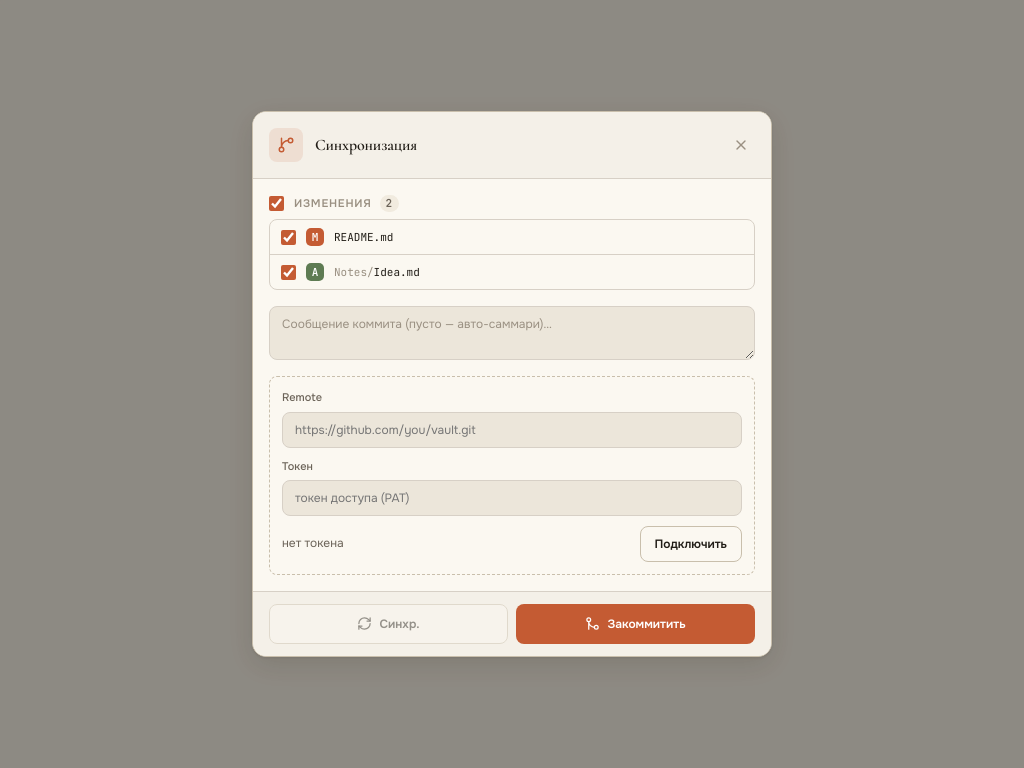
Test case: SyncPanel commit — ошибка не глотается (audit B13) › сбой git.commit показывает error-исход, а не тихо проглатывается
// Кнопка коммита доступна после загрузки статуса (мок отдаёт грязные файлы).
Click the button "Закоммитить": [636, 624] box [516,604,755,644]
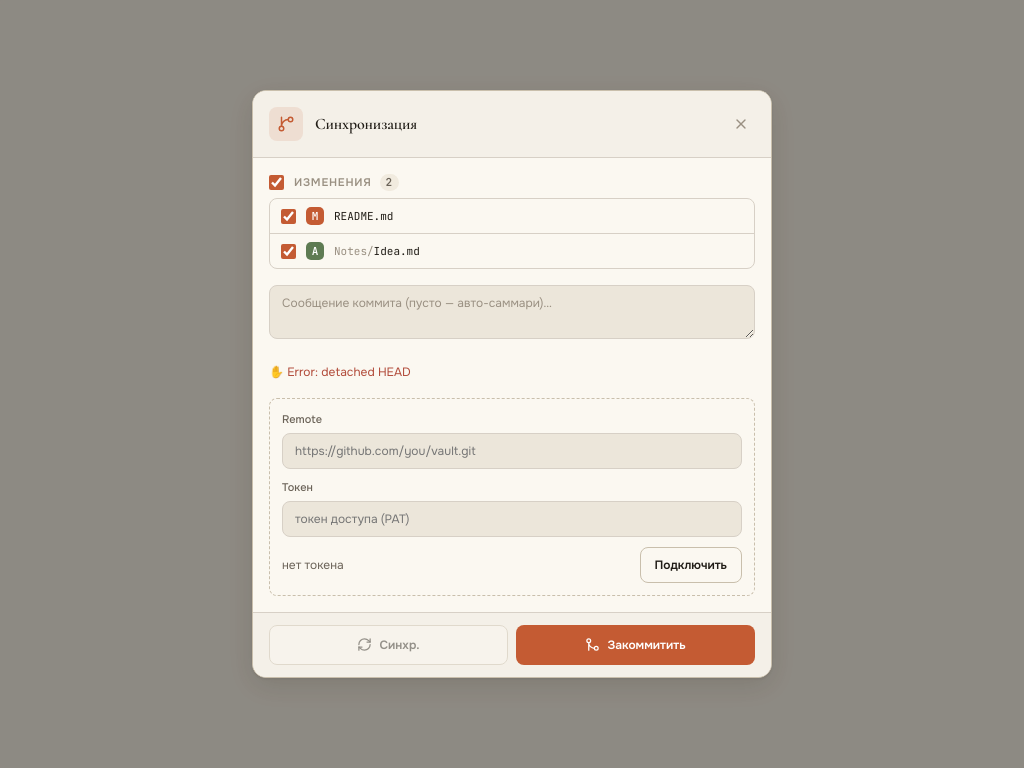
Expected: the text "✋ Error: detached HEAD" is shown, [269,364,411,380]
